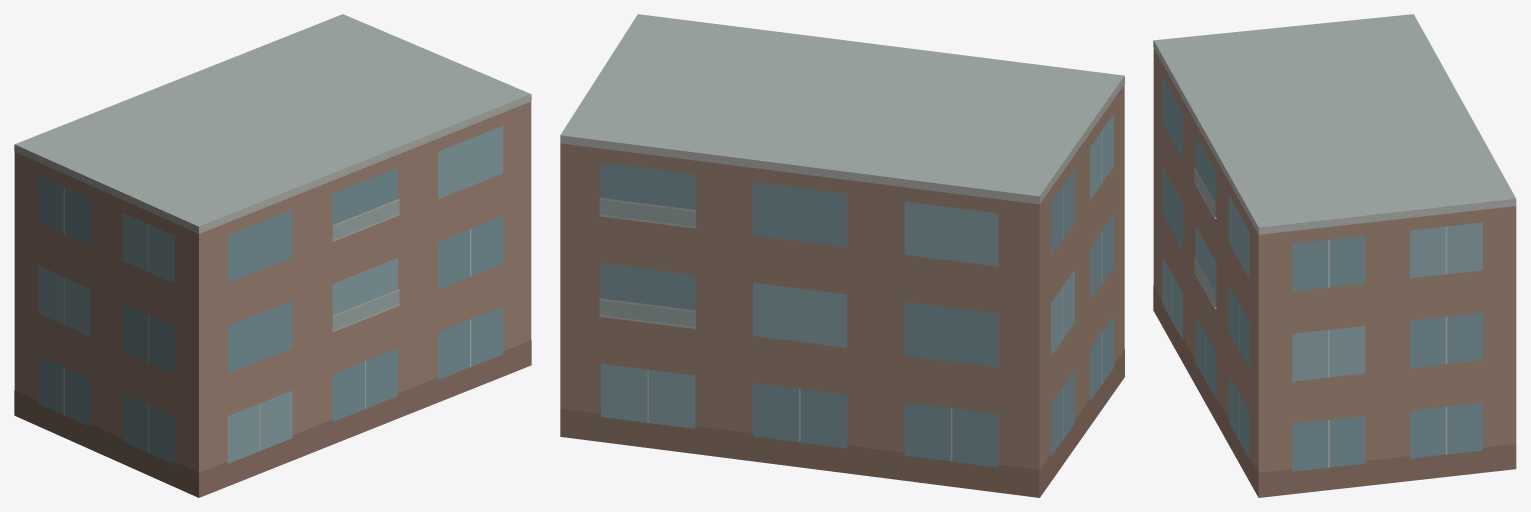
File: survey-upis-32606676.glb
The picture shows the model from 3 angles, left to right: view 1: azimuth 30°, elevation 25°; view 2: azimuth 150°, elevation 25°; view 3: azimuth 270°, elevation 25°; orthographic projection. The views are drawn at different scales.
Parts seen in each view (by area): view 1: survey-upis-32606676.tmp; view 2: survey-upis-32606676.tmp; view 3: survey-upis-32606676.tmp.
Boxes of the visible parts, x1,y1,x2,y2 form: survey-upis-32606676.tmp: (14,14,531,497); survey-upis-32606676.tmp: (560,14,1124,497); survey-upis-32606676.tmp: (1153,14,1516,497).
Size of the model in its own units: 15.52 by 9.15 by 11.14.
